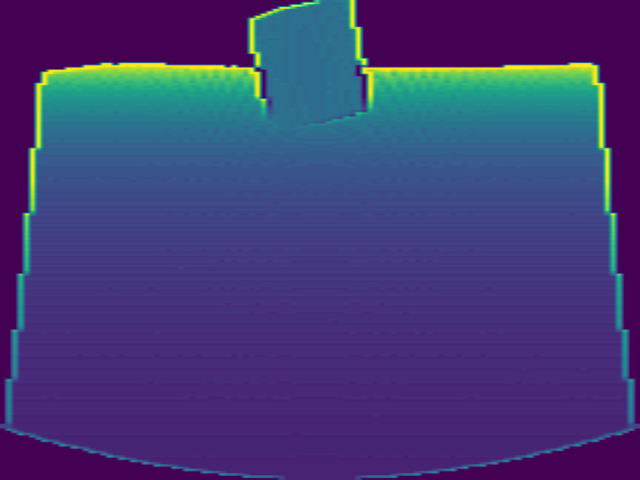cylinder: (247, 2, 371, 130)
